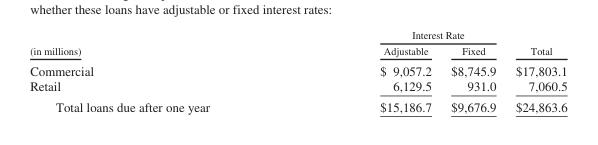table: (29, 29, 566, 113)
table column: (29, 29, 294, 113), (294, 29, 440, 113), (440, 29, 505, 113), (505, 29, 566, 113)
table column header: (29, 29, 566, 59)
table row: (29, 77, 566, 96), (29, 59, 566, 77), (29, 42, 566, 59), (29, 96, 566, 113), (29, 29, 566, 42)
table spanning cell: (29, 29, 294, 59), (294, 29, 505, 42), (505, 29, 566, 59)
